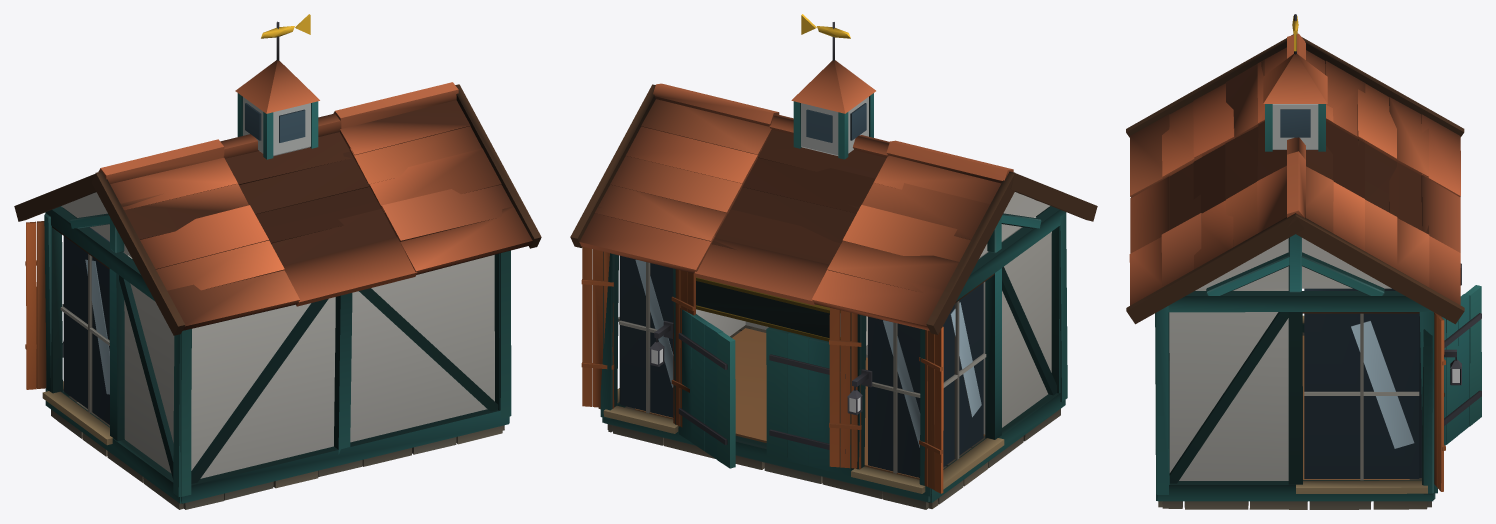
Rendered from HD_Chandlery.fbx.
3 renders of one model, left to right at view 1: azimuth 30°, elevation 25°; view 2: azimuth 150°, elevation 25°; view 3: azimuth 270°, elevation 25°, orthographic. The views are drawn at different scales.
Parts seen in each view (by area): view 1: HD_Chandlery_3_SmoothPlastic, HD_Chandlery_2_Wood, HD_Chandlery_1_Sandstone; view 2: HD_Chandlery_3_SmoothPlastic, HD_Chandlery_2_Wood, HD_Chandlery_1_Sandstone, HD_Chandlery_4_Metal; view 3: HD_Chandlery_3_SmoothPlastic, HD_Chandlery_2_Wood, HD_Chandlery_1_Sandstone, HD_Chandlery_4_Metal.
Part boxes in pixels (box(x1,y1,x2,y2)): HD_Chandlery_3_SmoothPlastic: box(61, 60, 532, 478); HD_Chandlery_2_Wood: box(14, 84, 541, 503); HD_Chandlery_1_Sandstone: box(42, 381, 504, 509); HD_Chandlery_3_SmoothPlastic: box(579, 60, 1051, 477); HD_Chandlery_2_Wood: box(570, 84, 1097, 502); HD_Chandlery_1_Sandstone: box(598, 325, 1060, 509); HD_Chandlery_4_Metal: box(649, 14, 872, 453); HD_Chandlery_3_SmoothPlastic: box(1129, 33, 1460, 480); HD_Chandlery_2_Wood: box(1126, 34, 1481, 501); HD_Chandlery_1_Sandstone: box(1158, 315, 1431, 509); HD_Chandlery_4_Metal: box(1292, 14, 1481, 425).
Size of the model in its own units: 22.78 by 24.01 by 18.72.
